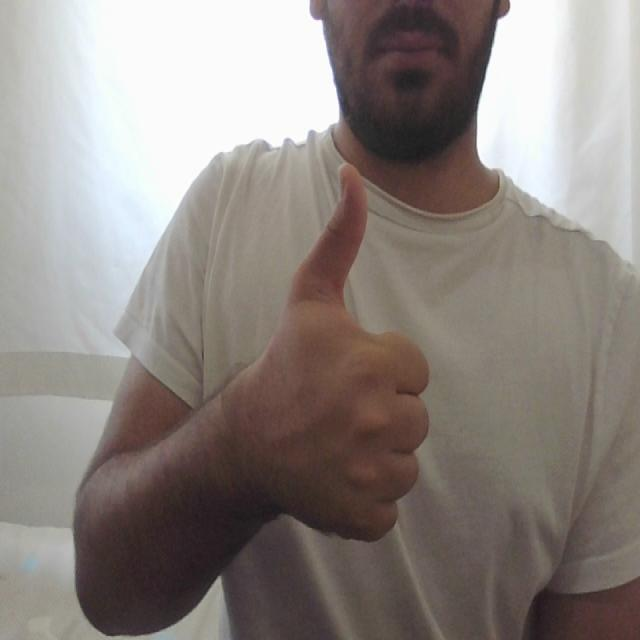Tamam: (256, 150, 434, 550)
